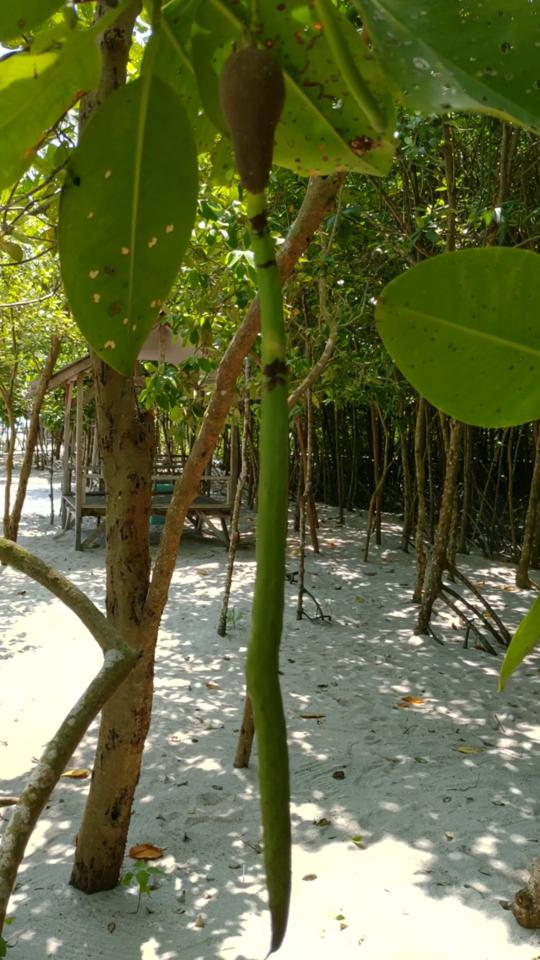mentah: (201, 18, 316, 958)
